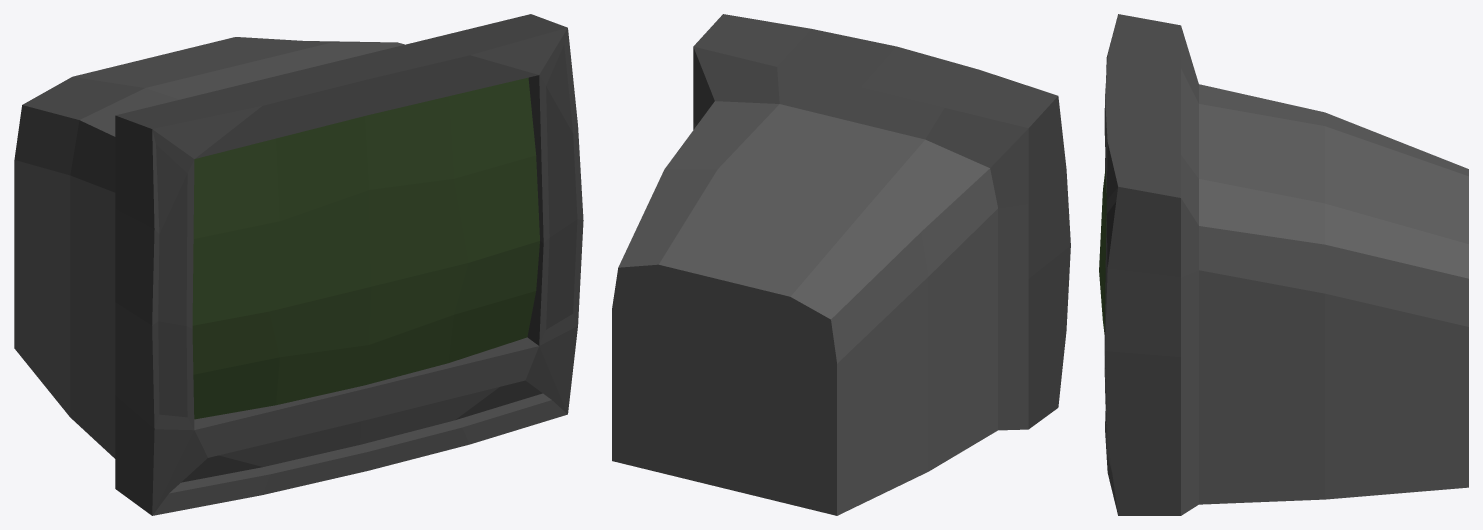
Rendered from TelevisionSet3.fbx.
The picture shows the model from 3 angles, left to right: view 1: azimuth 30°, elevation 25°; view 2: azimuth 150°, elevation 25°; view 3: azimuth 270°, elevation 25°; orthographic projection. The views are drawn at different scales.
Parts seen in each view (by area): view 1: Cube.002; view 2: Cube.002; view 3: Cube.002.
Part boxes in pixels (x1,y1,x2,y2): Cube.002: (14, 14, 583, 515); Cube.002: (612, 14, 1070, 515); Cube.002: (1099, 14, 1468, 515).
Size of the model in its own units: 1.21 by 1.05 by 1.05.
